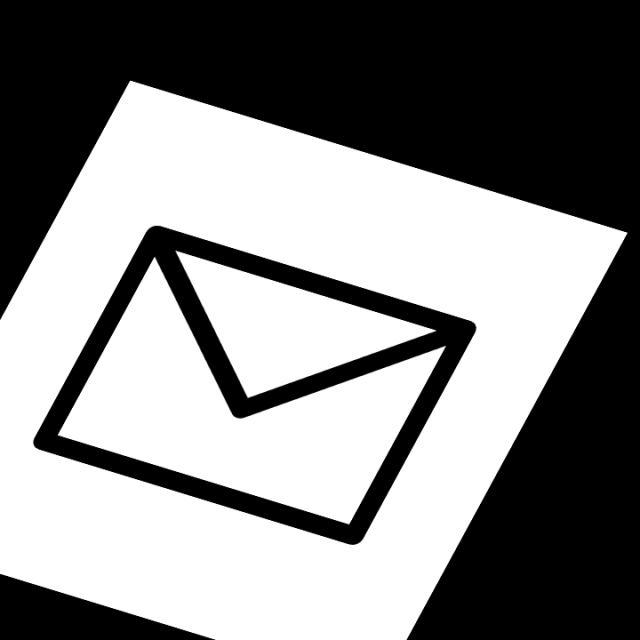letter: (28, 224, 480, 553)
